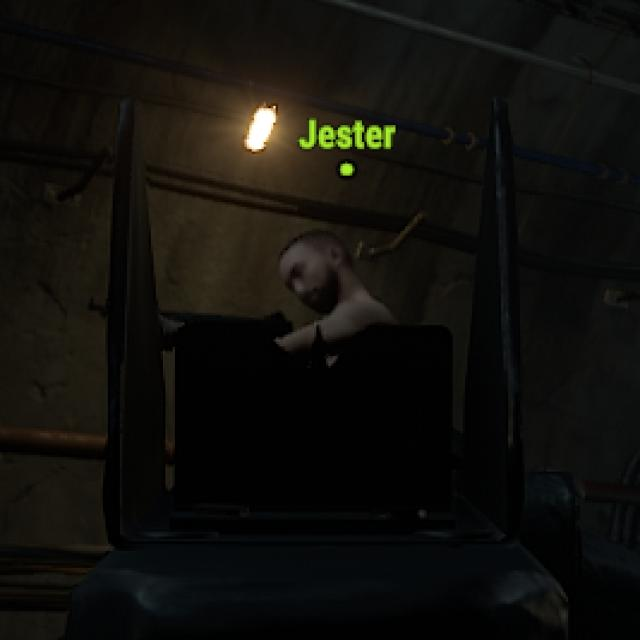Player: (265, 228, 396, 324)
